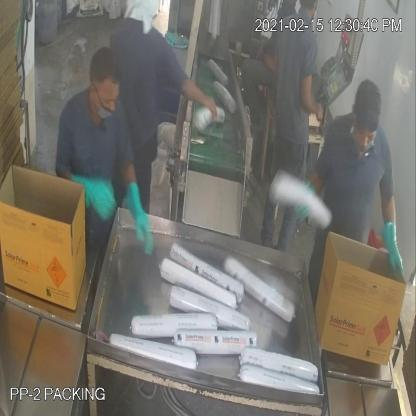glove: (124, 170, 158, 270), (70, 162, 119, 227), (376, 196, 408, 285)
no_glove: (177, 74, 222, 132), (296, 66, 325, 128)
